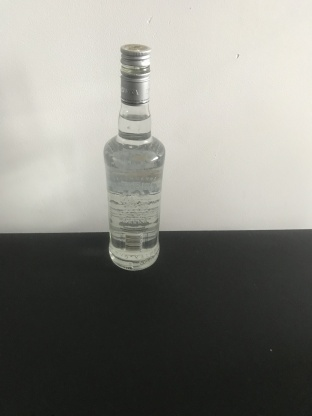nakretka: (119, 42, 151, 106)
